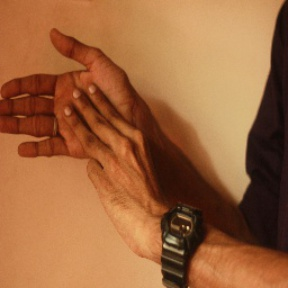M: (1, 26, 163, 197)
